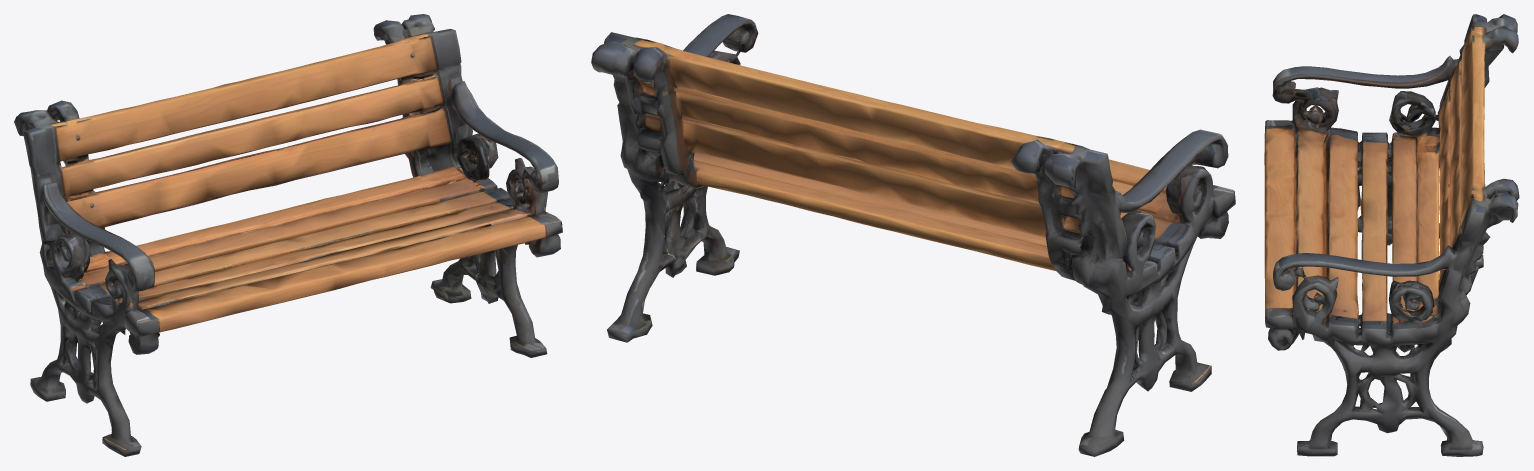
File: bench.glb
The picture shows the model from 3 angles, left to right: view 1: azimuth 30°, elevation 25°; view 2: azimuth 150°, elevation 25°; view 3: azimuth 270°, elevation 25°; orthographic projection. The views are drawn at different scales.
Size of the model in its own units: 2.01 by 1.2 by 1.09.
Materials: 1 (1 with a texture image).
